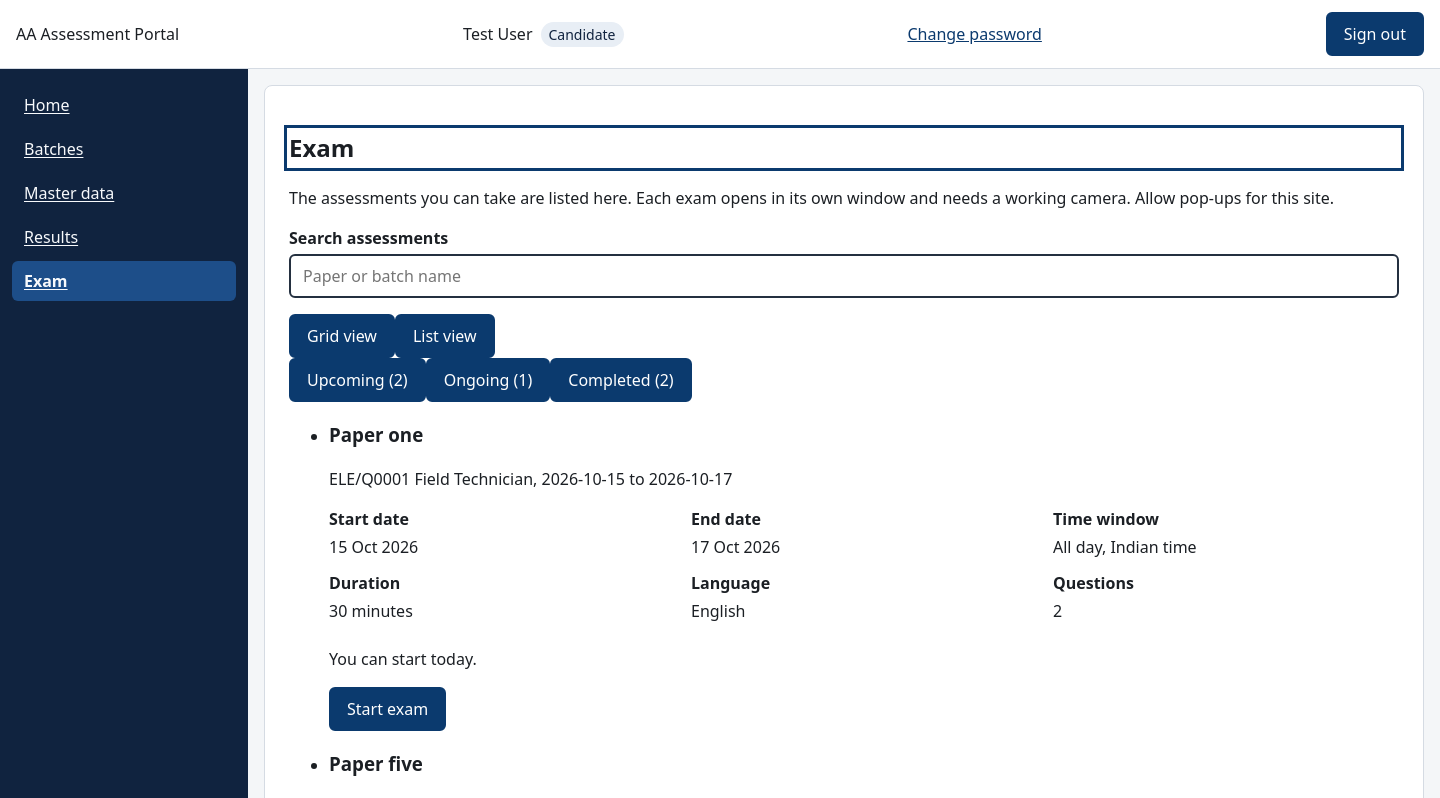
Test case: has Upcoming, Ongoing and Completed tabs with counts, and puts each assessment in the right one
Check: the tab "Completed (2)" is shown, box [550,358,692,402]
Check: the headings read "Paper one", "Paper five", in this order, box [329,422,423,446]; [329,751,423,776]
Click the tab "Ongoing (1)" at point(488, 380), box [426,358,550,402]
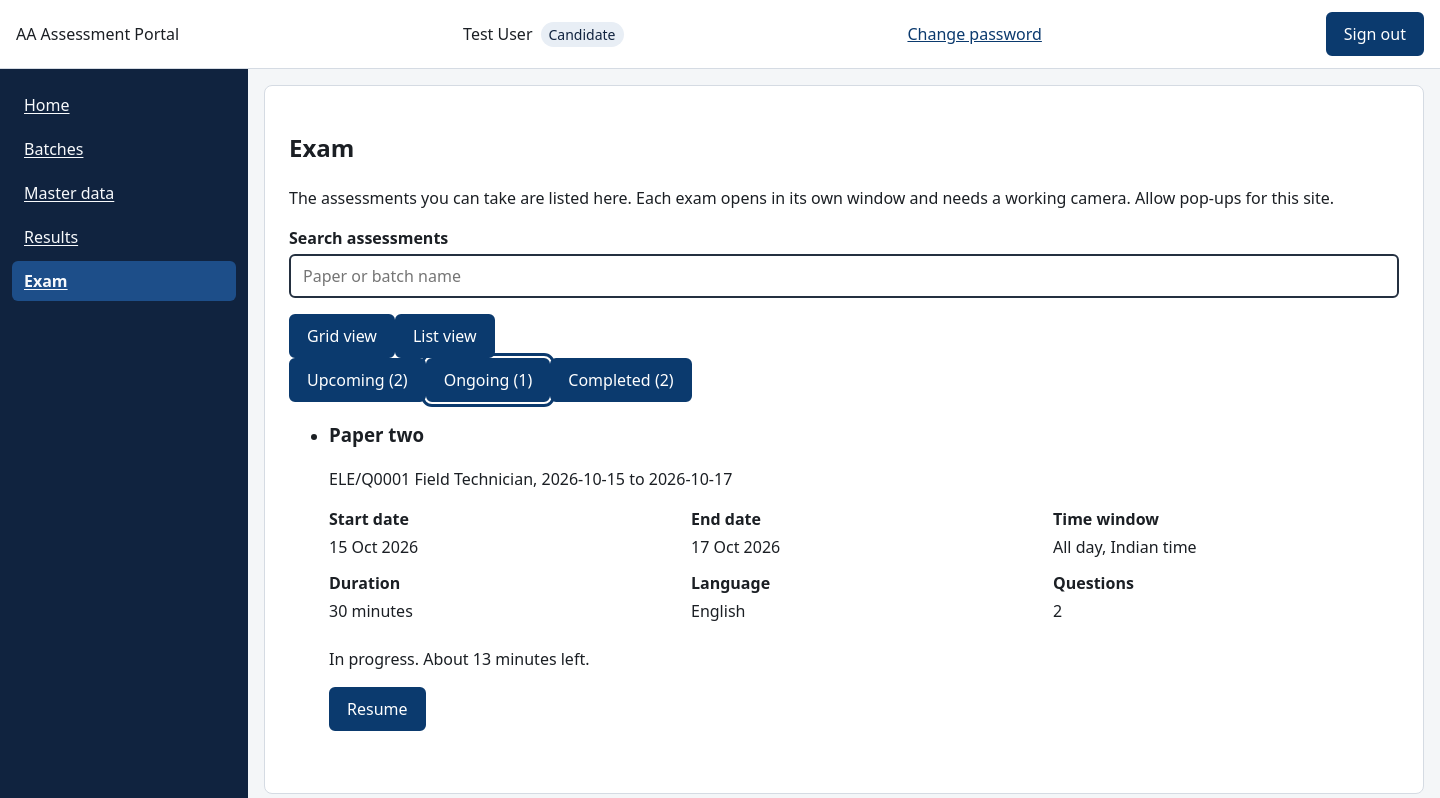
Check: the headings read "Paper two", in this order, box [329,422,424,446]
Click the tab "Completed (2)" at point(621, 380), box [550,358,692,402]
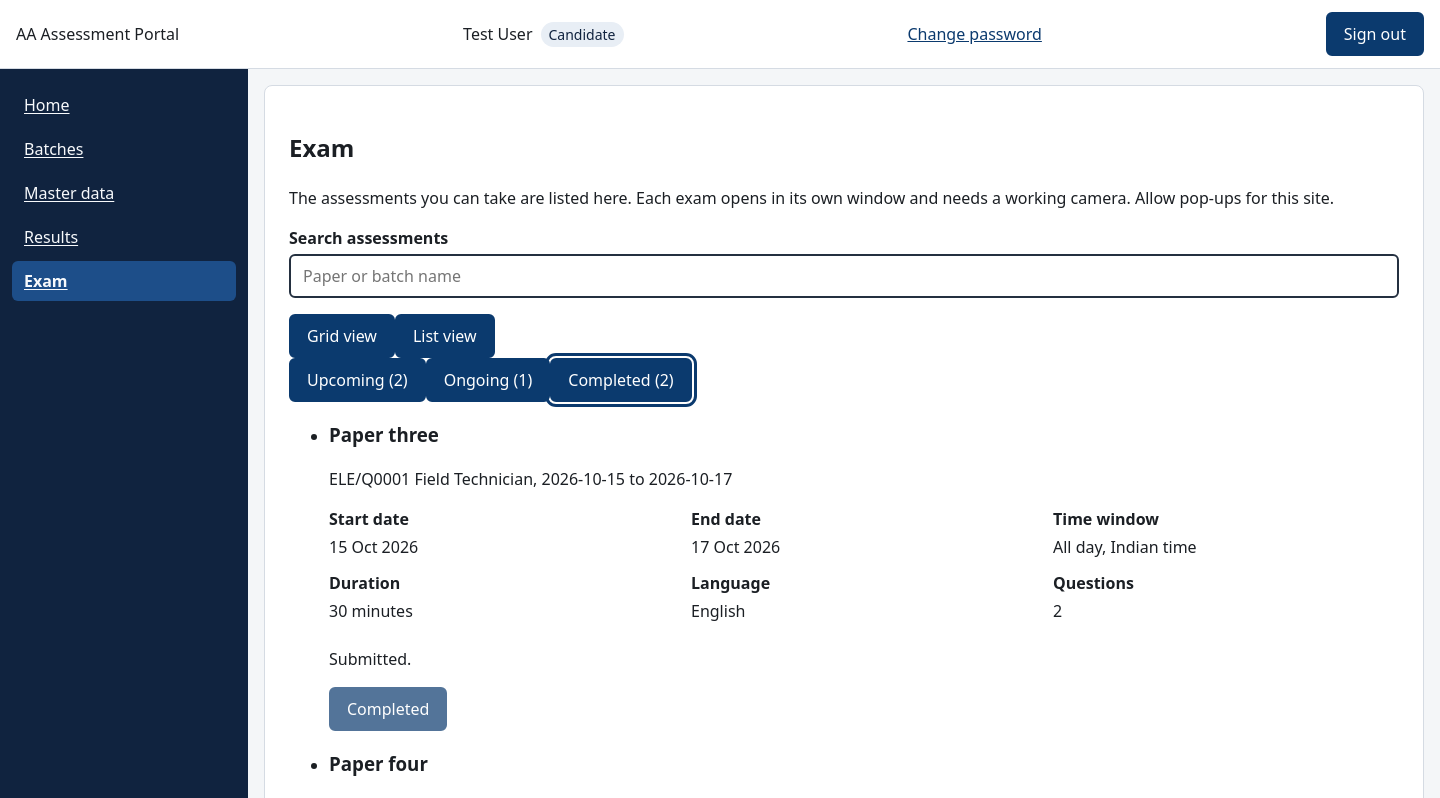
Check: the headings read "Paper three", "Paper four", in this order, box [329,422,439,446]; [329,751,428,776]
